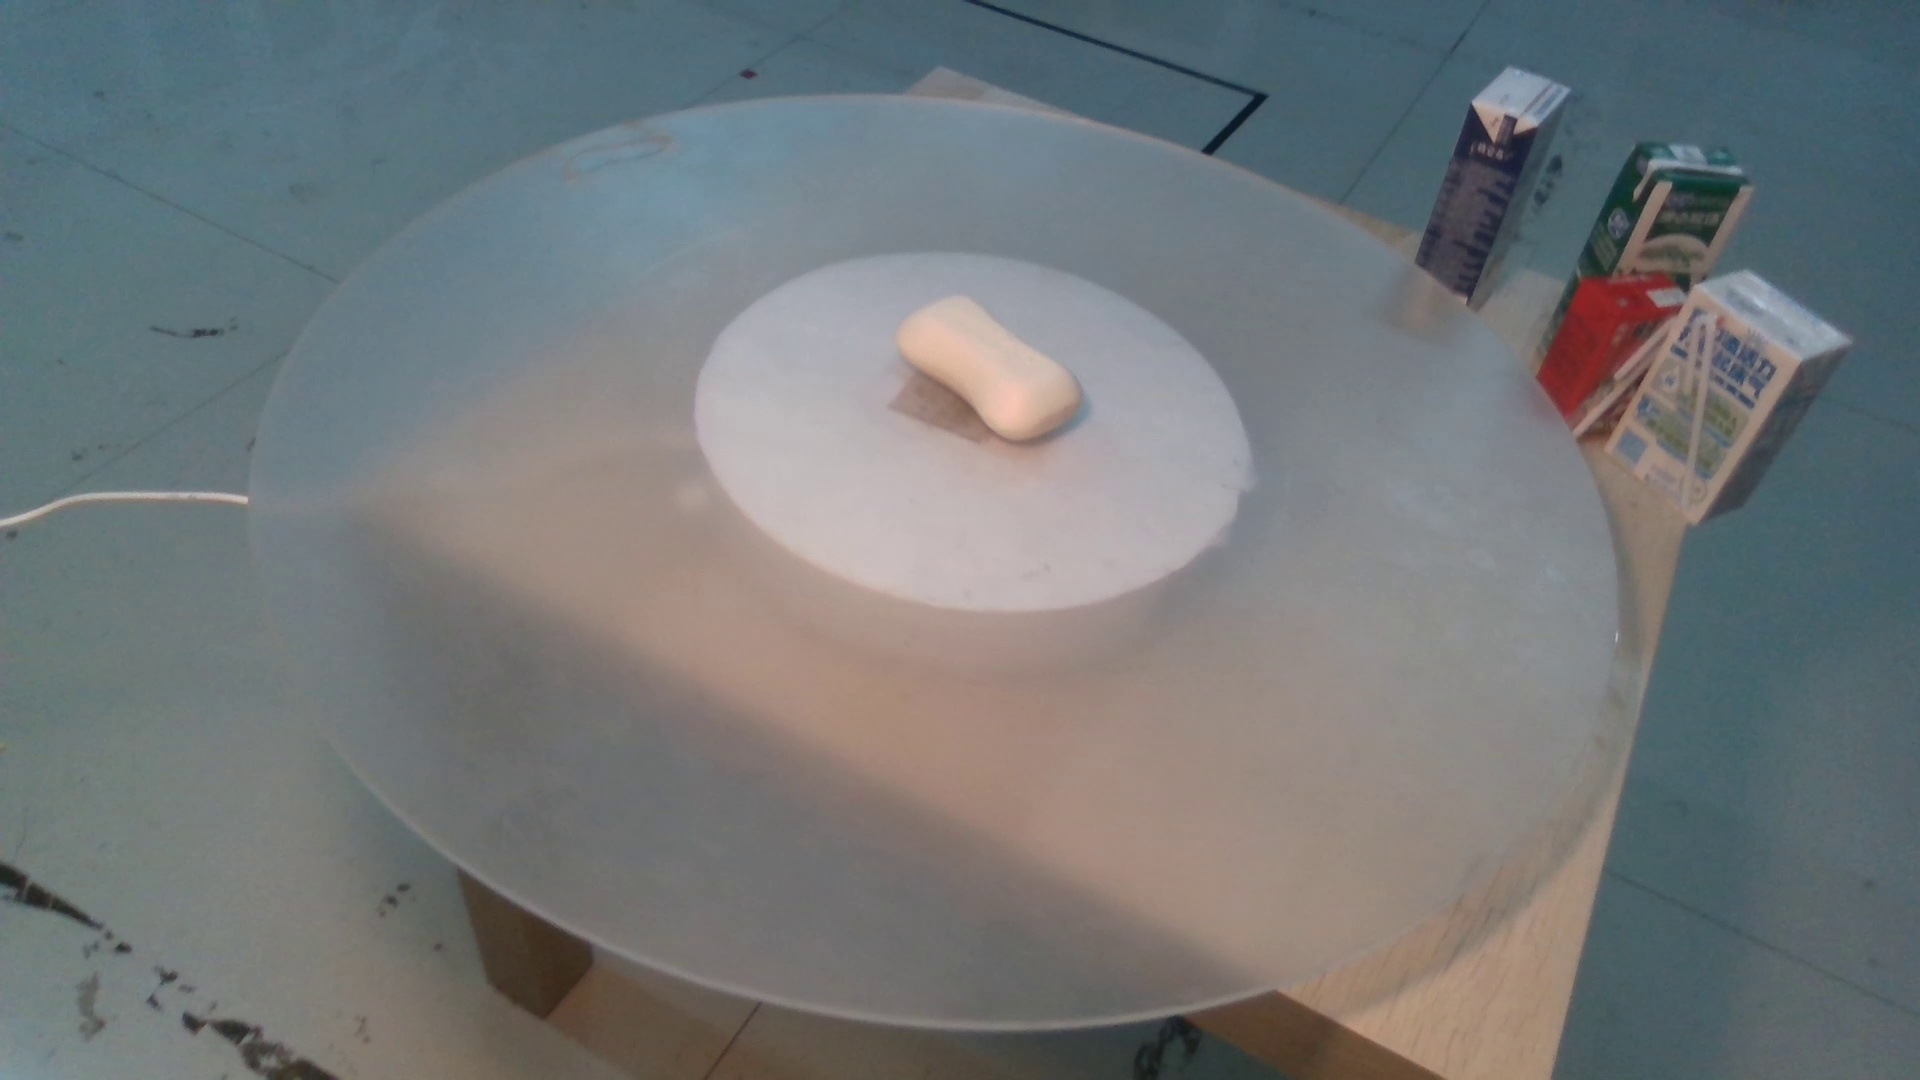CA003_1: (891, 284, 1080, 444)
